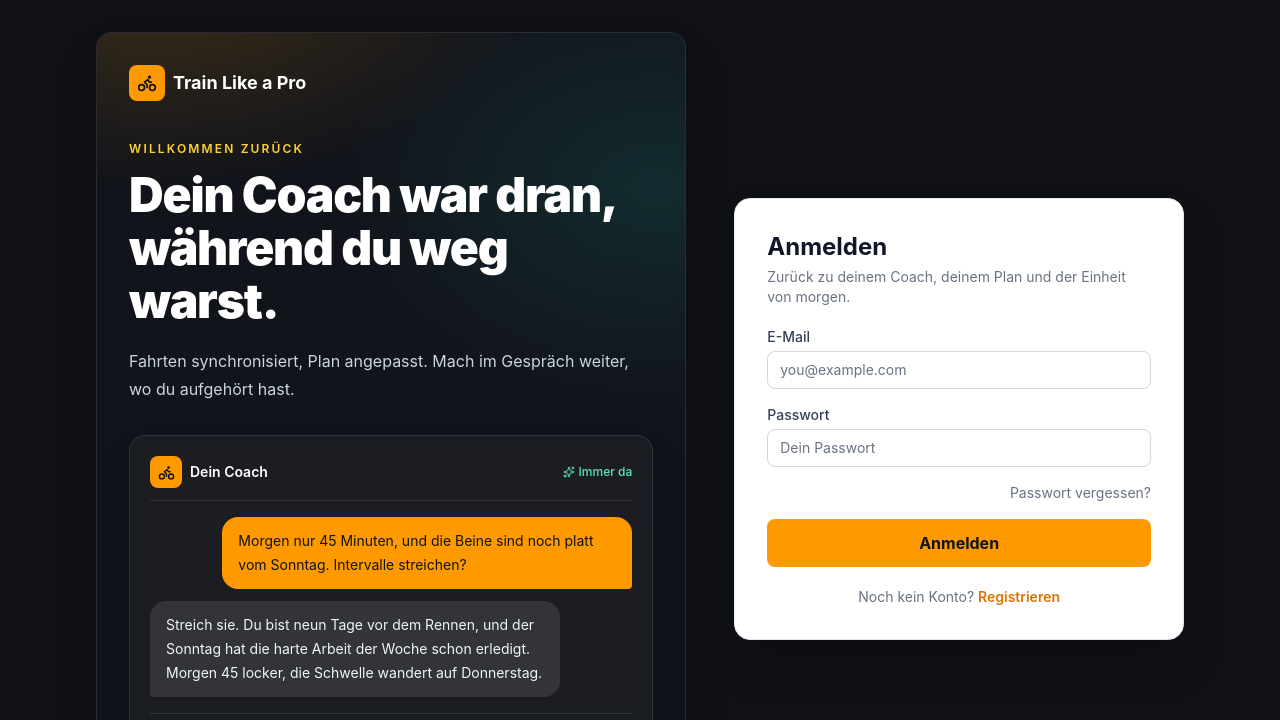
it: LoginPage › gives the resend reply in German (ai-trainer-ops#121)
Type "new@example.com" into the field with placeholder "you@example.com" at [959, 370], box top-left (767, 351), bottom-right (1151, 389)
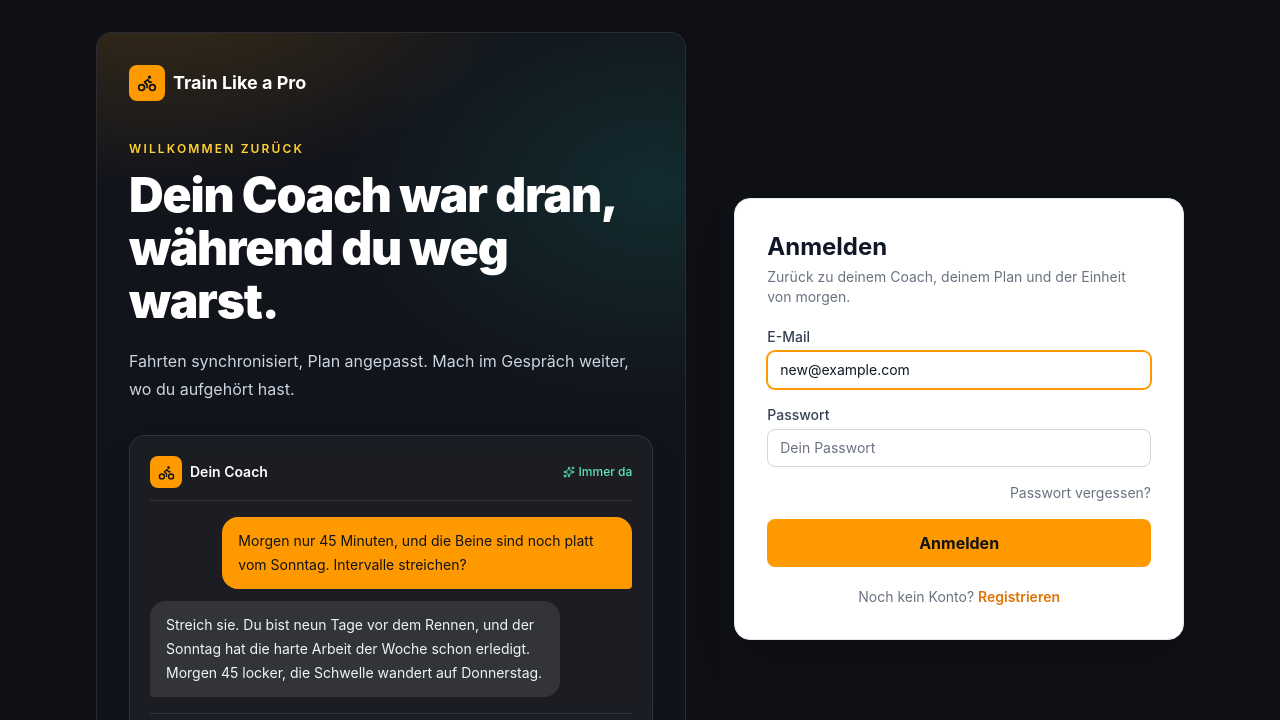
Type "password123" into the password field with placeholder "Dein Passwort" at [959, 448], box top-left (767, 429), bottom-right (1151, 467)
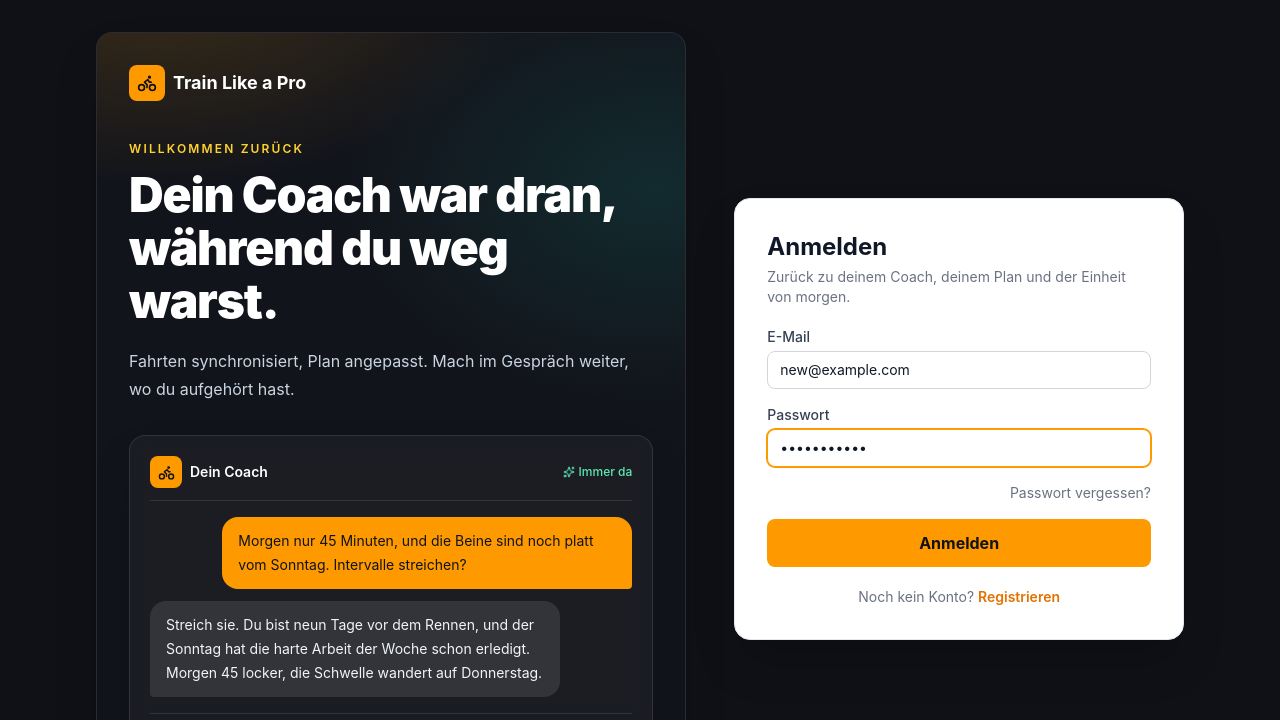
Click the button "Anmelden" at [959, 543], box top-left (767, 519), bottom-right (1151, 567)
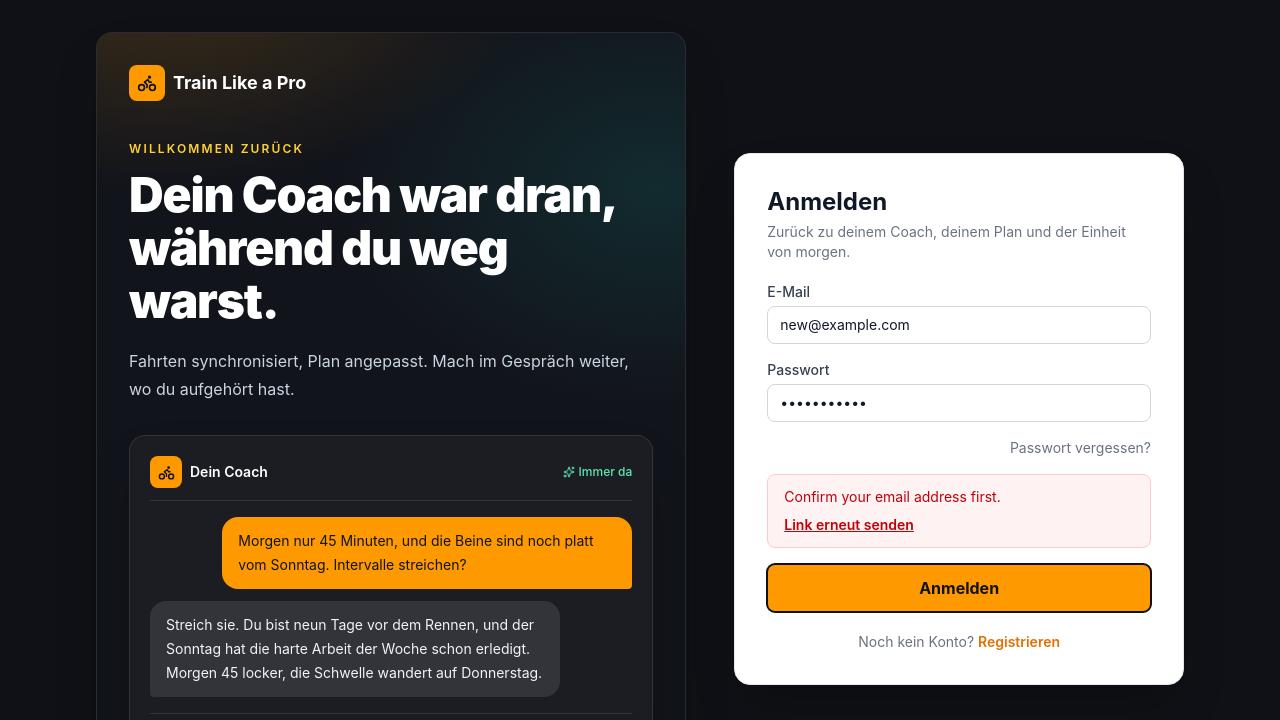
Click the button "Link erneut senden" at [849, 525], box top-left (784, 515), bottom-right (914, 535)
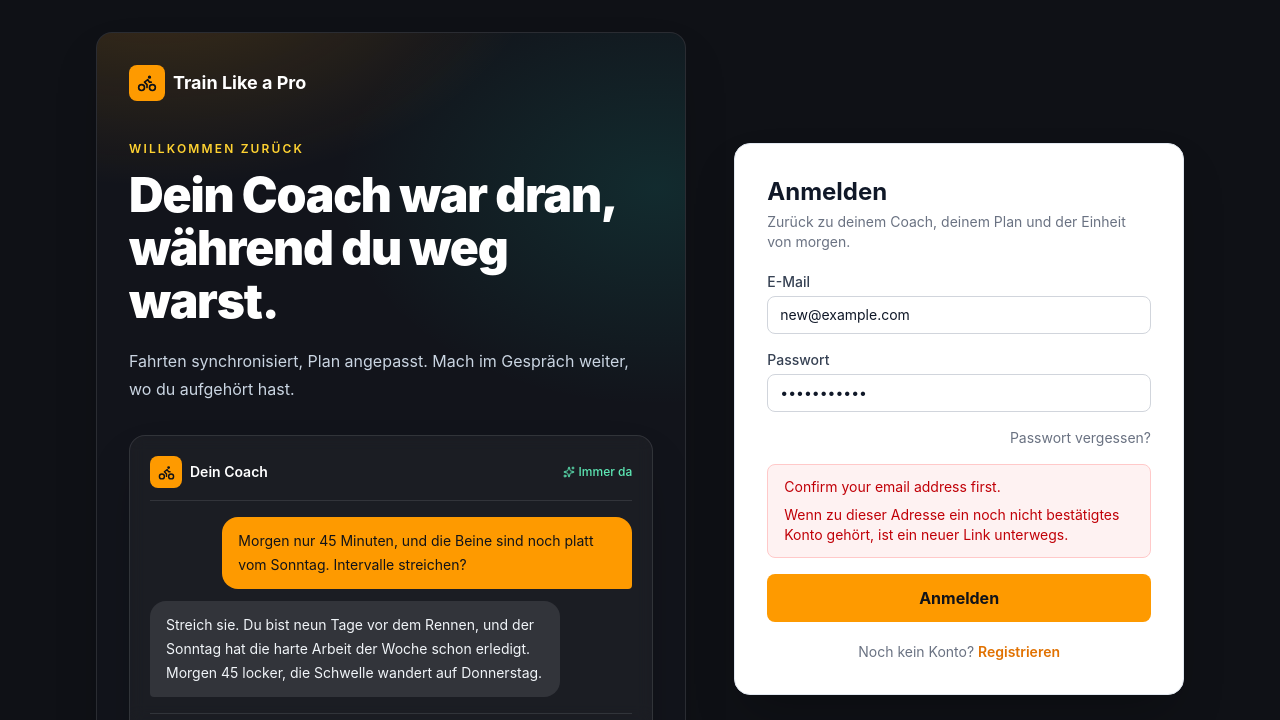
Check: the text "Wenn zu dieser Adresse ein noch nicht bestätigtes Konto gehört, ist ein neuer Link unterwegs." is shown, box top-left (784, 506), bottom-right (1120, 543)
